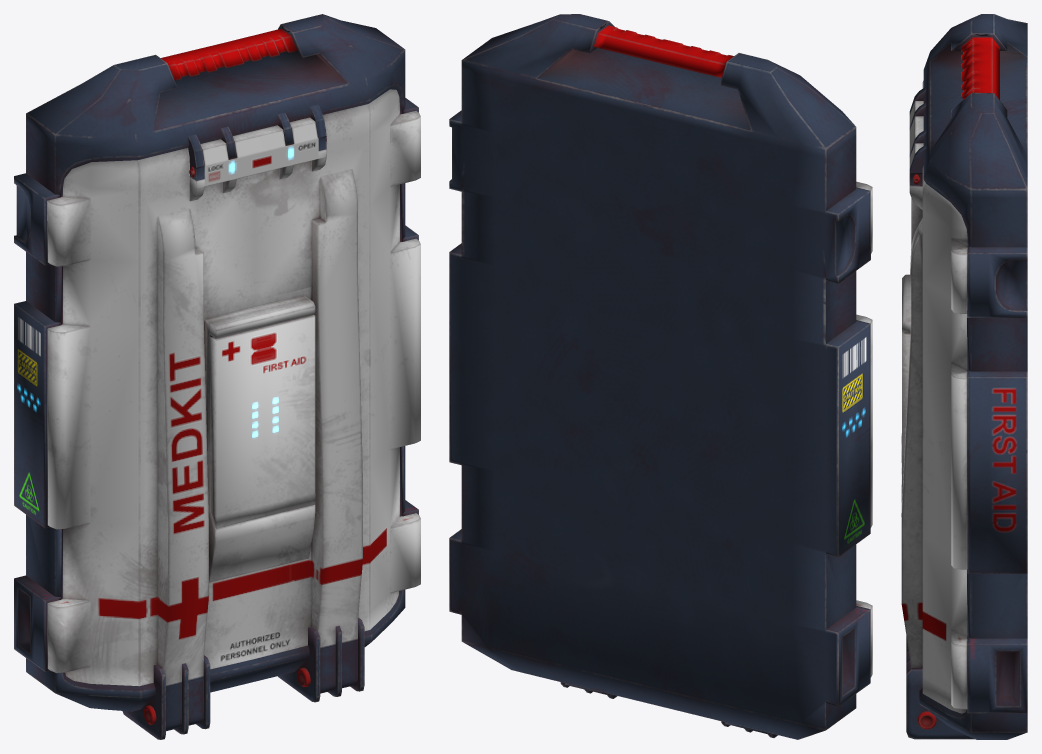
Rendered from sci-fi_medkit__game_asset.glb.
3 renders of one model, left to right at view 1: azimuth 30°, elevation 25°; view 2: azimuth 150°, elevation 25°; view 3: azimuth 270°, elevation 25°, orthographic. The views are drawn at different scales.
Visible parts, largest first — view 1: Object_2; view 2: Object_2; view 3: Object_2.
Part boxes in pixels (x1,y1,x2,y2): Object_2: (14, 14, 420, 739); Object_2: (449, 14, 872, 739); Object_2: (901, 14, 1027, 739).
Size of the model in its own units: 23.79 by 39.24 by 7.15.
Materials: 1 (1 with a texture image).
